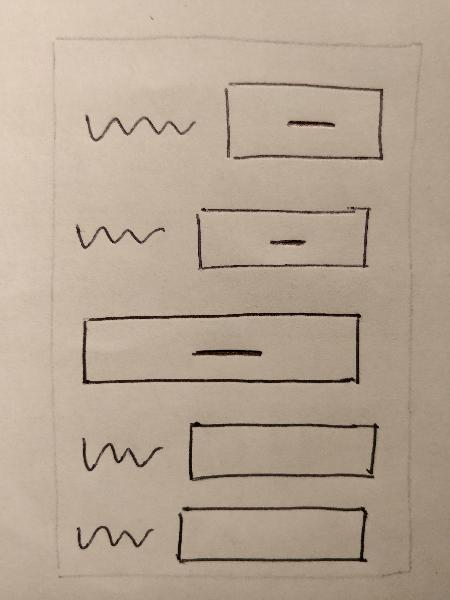button: (74, 308, 369, 396), (217, 74, 390, 170), (193, 201, 375, 279)
text: (76, 101, 201, 156), (64, 206, 189, 261), (67, 426, 177, 479), (62, 508, 172, 561)
text_input: (181, 415, 386, 488), (171, 499, 376, 572)
